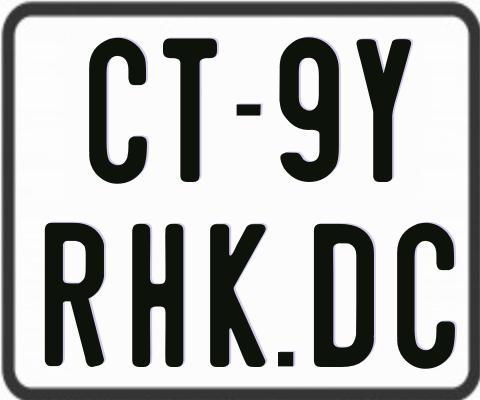9: (279, 34, 341, 184)
C: (86, 36, 150, 188), (395, 223, 456, 370)
D: (314, 222, 376, 366)
H: (129, 223, 182, 372)
K: (209, 224, 269, 369)
R: (44, 223, 103, 369)
T: (162, 36, 217, 181)
Y: (356, 38, 415, 182)
